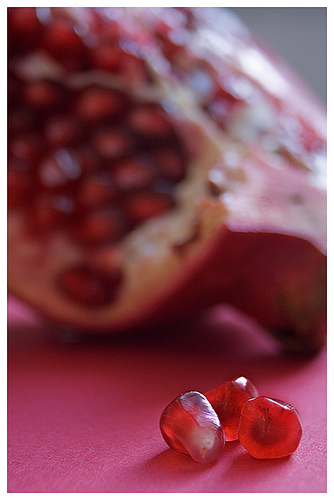pomogranate: (7, 8, 326, 355)
